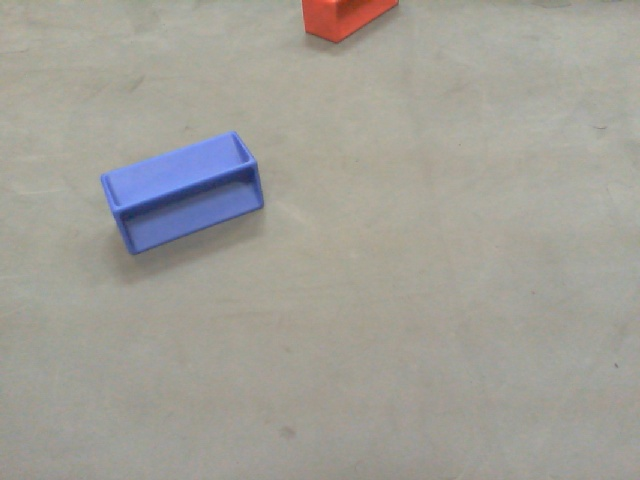BlueSample: (100, 128, 267, 256)
RedSample: (300, 1, 400, 44)
